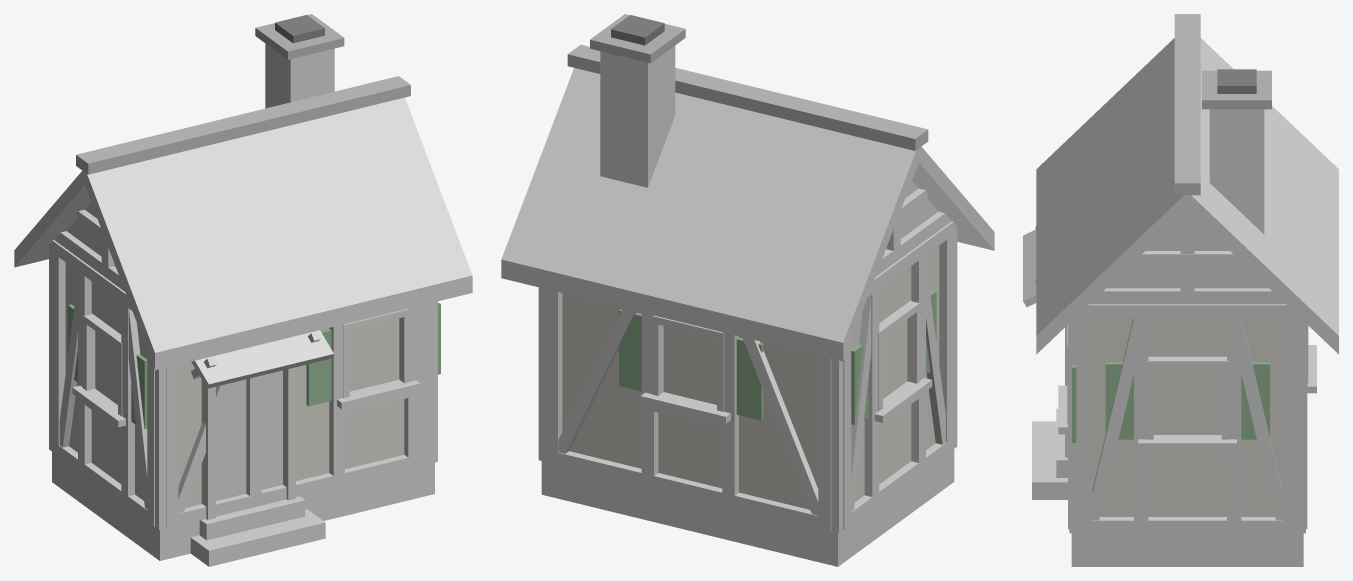
Rendered from house_1.glb.
3 renders of one model, left to right at view 1: azimuth 30°, elevation 25°; view 2: azimuth 150°, elevation 25°; view 3: azimuth 270°, elevation 25°, orthographic. The views are drawn at different scales.
Bounding box in the file's own units: 3.66 × 4.62 × 2.88.
